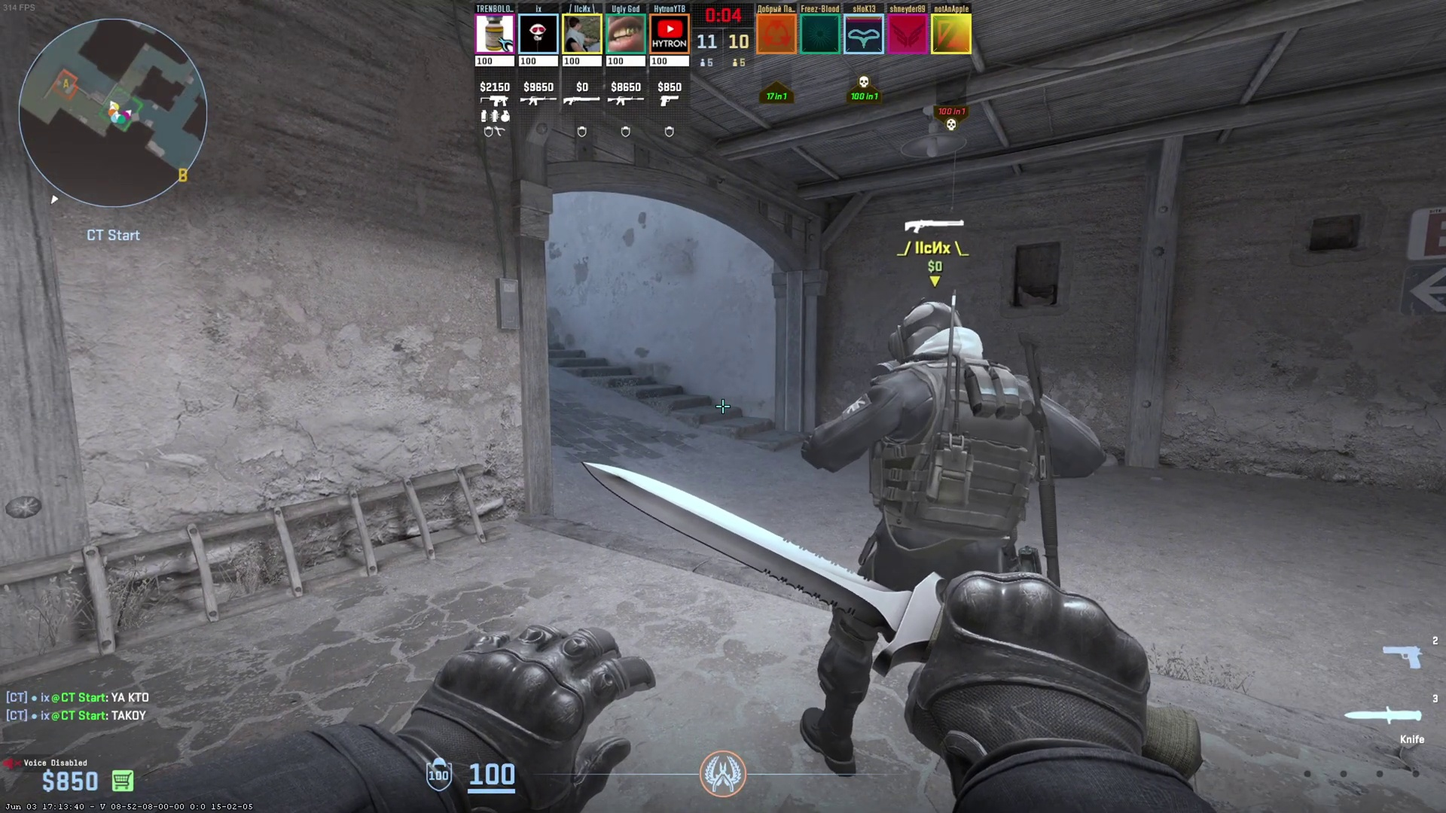CT: (826, 298, 1037, 728)
